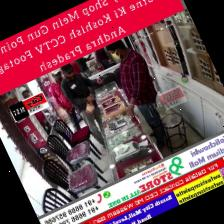person: (106, 41, 164, 151), (61, 64, 104, 147), (49, 71, 79, 131), (34, 111, 49, 135), (76, 54, 91, 78), (95, 49, 111, 69)
